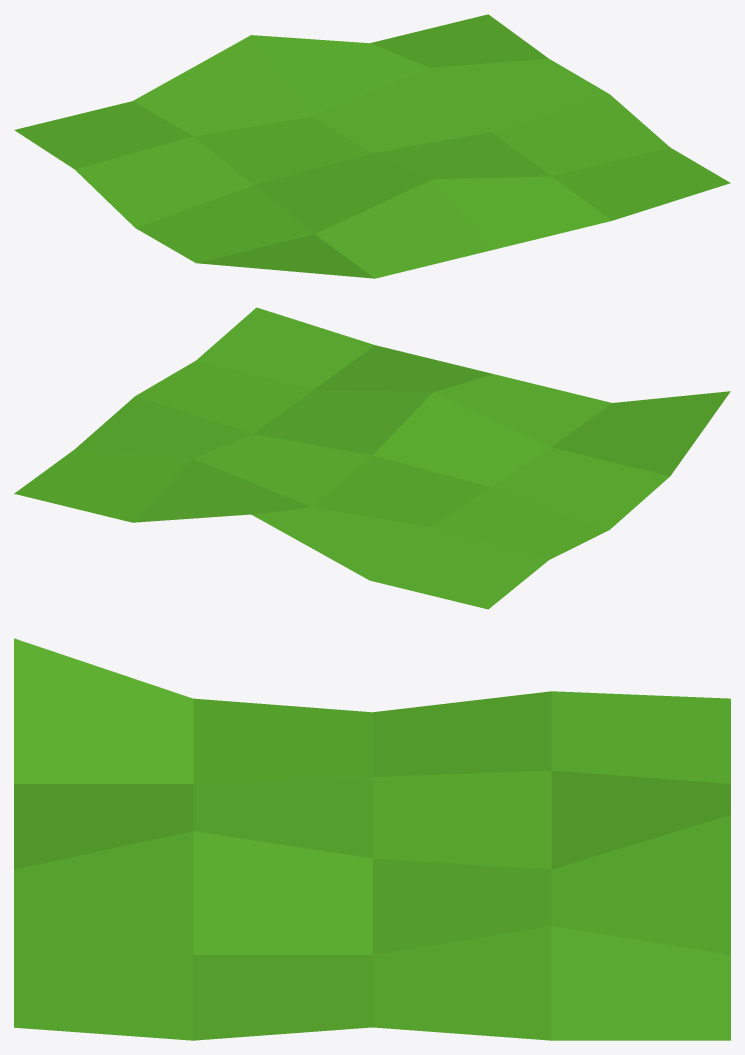
The model's file is ground01.FBX.
3 renders of one model, top to bottom at view 1: azimuth 30°, elevation 25°; view 2: azimuth 150°, elevation 25°; view 3: azimuth 270°, elevation 25°, orthographic. The views are drawn at different scales.
Parts seen in each view (by area): view 1: Plane001; view 2: Plane001; view 3: Plane001.
Boxes of the visible parts, x1,y1,x2,y2 form: Plane001: [14, 14, 730, 278]; Plane001: [14, 307, 730, 609]; Plane001: [14, 638, 730, 1040].
Bounding box in the file's own units: 163559 × 16488 × 144882.
1 material, 1 textured.
